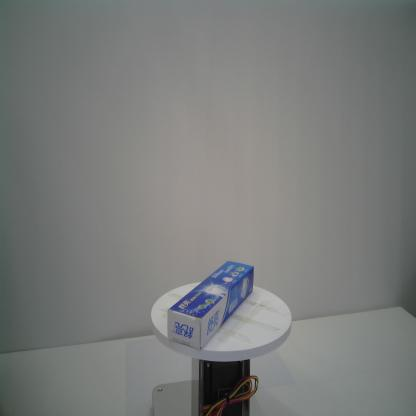Personal Hygiene: (166, 260, 254, 351)
